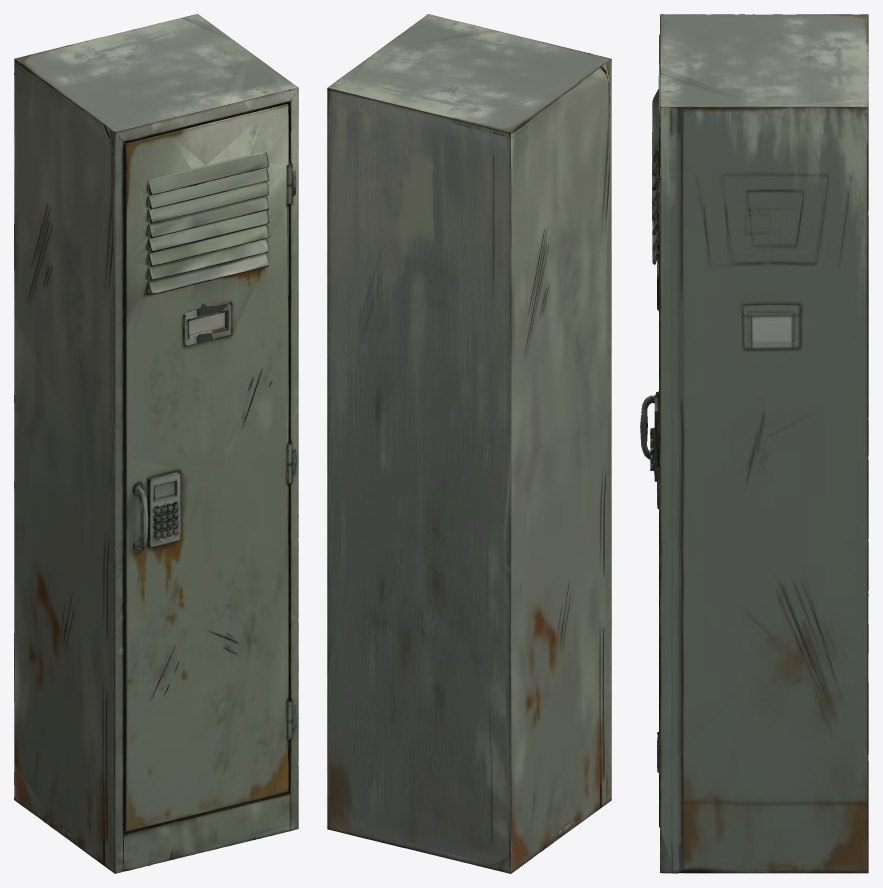
Rendered from RustyLocker.glb.
3 views of the same model, side by side, from view 1: azimuth 30°, elevation 25°; view 2: azimuth 150°, elevation 25°; view 3: azimuth 270°, elevation 25° (orthographic). The views are drawn at different scales.
Parts seen in each view (by area): view 1: RustyLocker; view 2: RustyLocker; view 3: RustyLocker.
Boxes of the visible parts, x1=… form: RustyLocker: x1=14, y1=14, x2=298, y2=873; RustyLocker: x1=327, y1=14, x2=611, y2=873; RustyLocker: x1=640, y1=14, x2=868, y2=873.
Bounding box in the file's own units: 0.48 × 1.85 × 0.5.
1 material, 1 textured.
